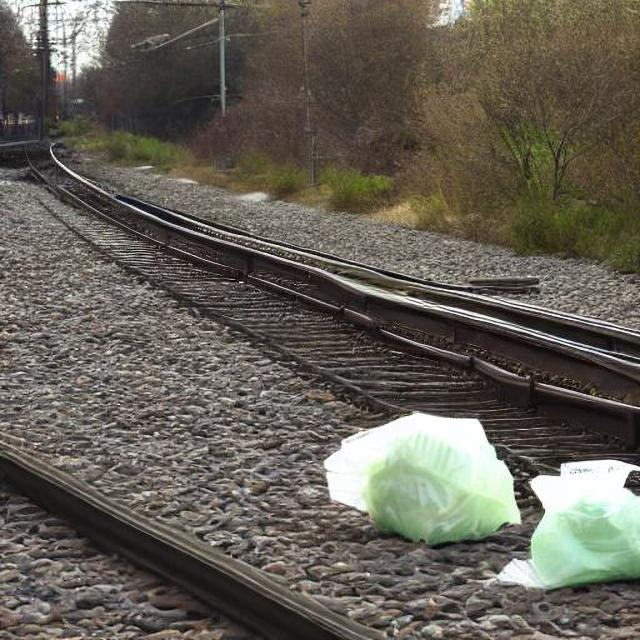plastic bag: (304, 398, 529, 563), (484, 452, 640, 605)
